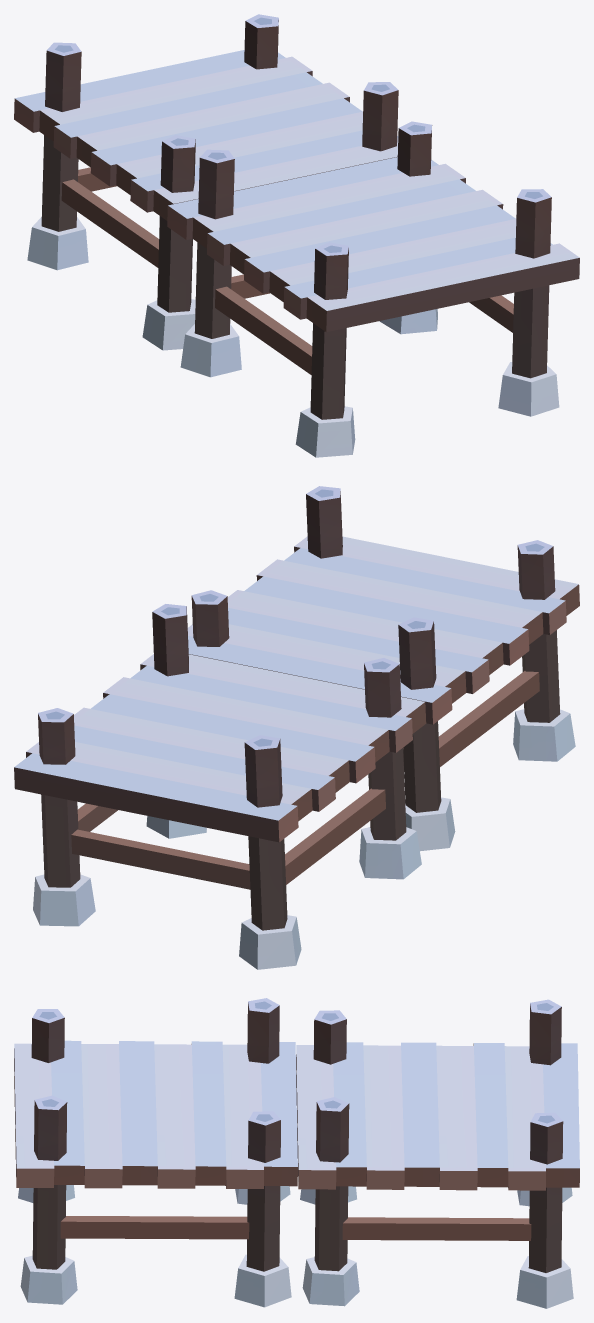
File: Wood.fbx
3 renders of one model, top to bottom at view 1: azimuth 30°, elevation 25°; view 2: azimuth 150°, elevation 25°; view 3: azimuth 270°, elevation 25°, orthographic. The views are drawn at different scales.
Size of the model in its own units: 4.62 by 3.6 by 9.05.
Materials: 1 (1 with a texture image).
